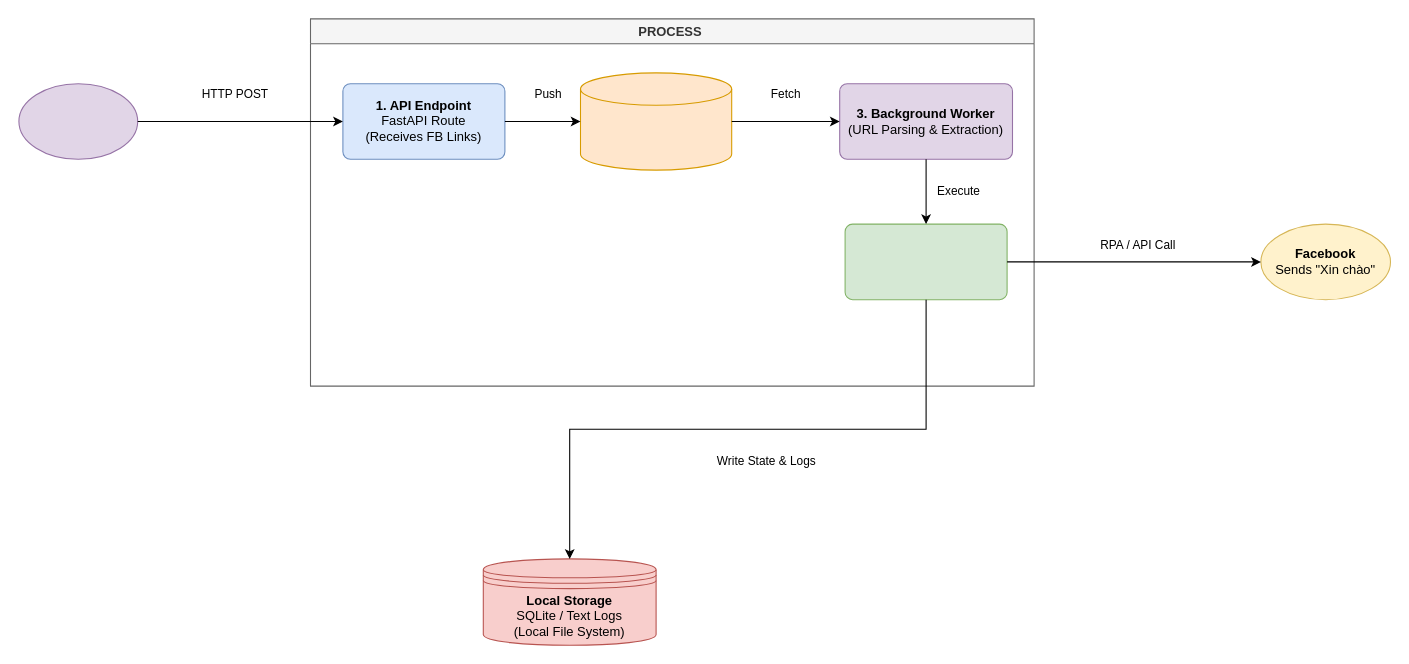
The diagram is 1409 pixels wide and 664 high, and some of its shapes have lost their labels. Each missing label, with the box of its shape:
2. Memory Queue Python (In-RAM Buffer): (579, 72, 732, 170)
4. Automation Logic Messenger API Call: (844, 223, 1007, 300)
User / Client Submits Link: (18, 83, 138, 159)
